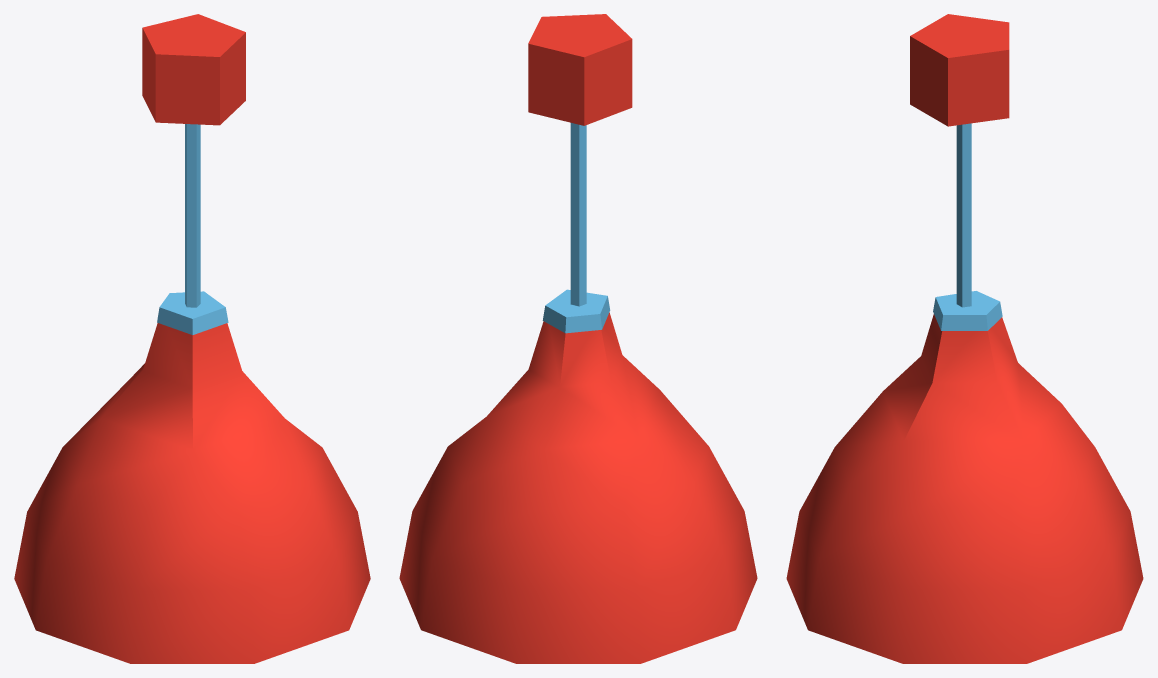
The model's file is lamp_008.glb.
3 views of the same model, side by side, from view 1: azimuth 30°, elevation 25°; view 2: azimuth 150°, elevation 25°; view 3: azimuth 270°, elevation 25° (orthographic).
Visible parts, largest first — view 1: lamp_008; view 2: lamp_008; view 3: lamp_008.
Part boxes in pixels (box(x1,y1,x2,y2)): lamp_008: box(14, 14, 370, 663); lamp_008: box(399, 14, 757, 663); lamp_008: box(786, 14, 1143, 663).
Bounding box in the file's own units: 0.5197 × 0.9067 × 0.5277.
Materials: 1 (1 with a texture image).
